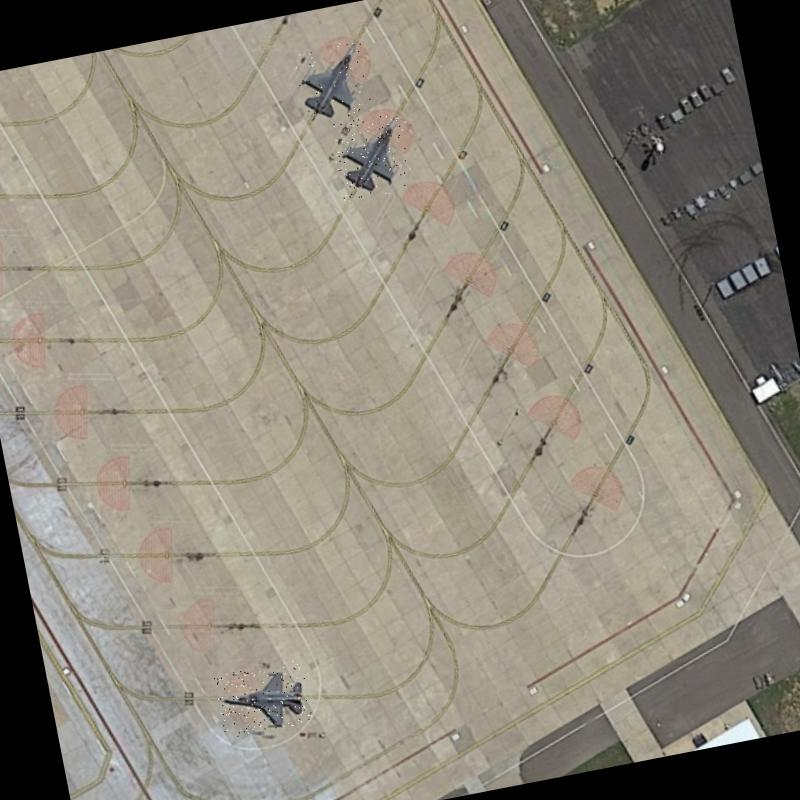A5: (213, 658, 313, 740), (328, 111, 414, 202), (292, 39, 374, 126)
